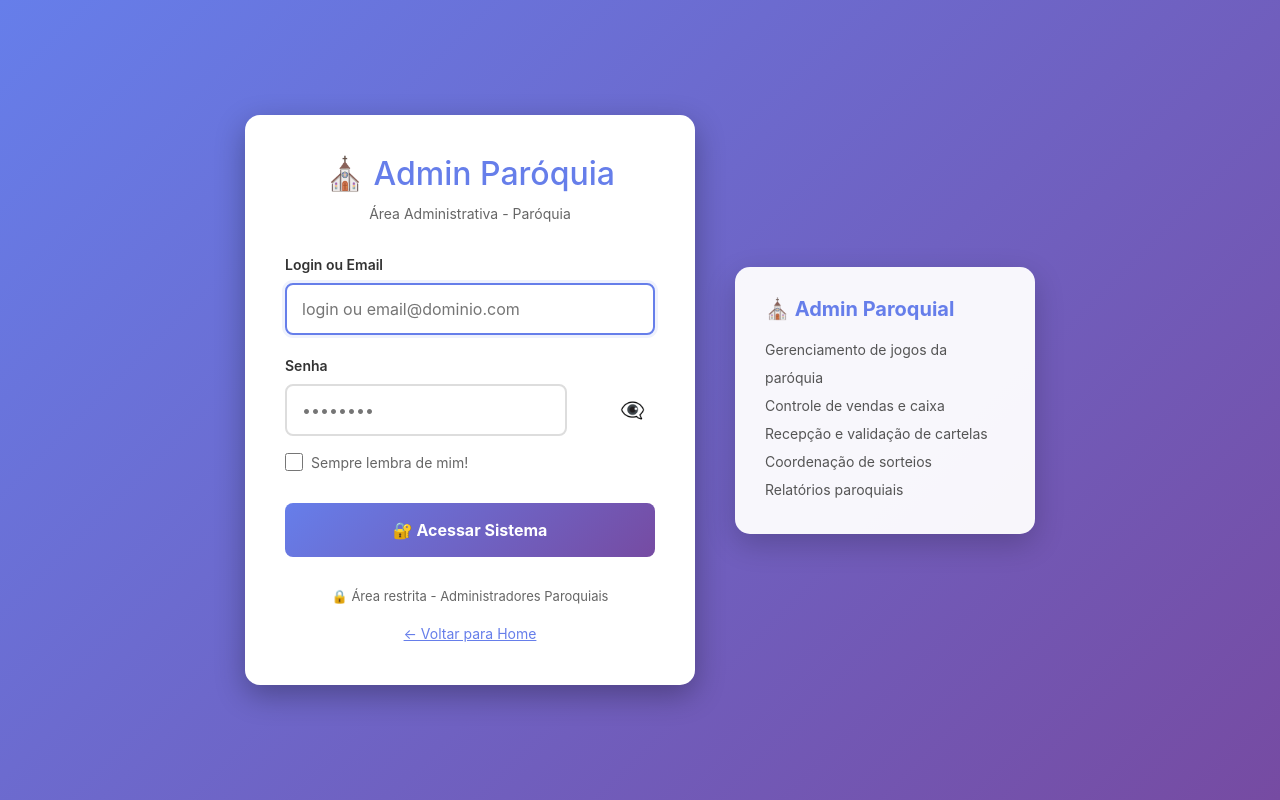
AdminParoquiaLogin › Perfil Admin-Paróquia Burro (UX/Resiliência): senha incorreta retorna erro amigável
The image size is (1280, 800).
Type "admin.paroquia@exemplo.com" into the field with placeholder "login ou email@dominio.com" at [470, 309], box x1=285 y1=283 x2=655 y2=335
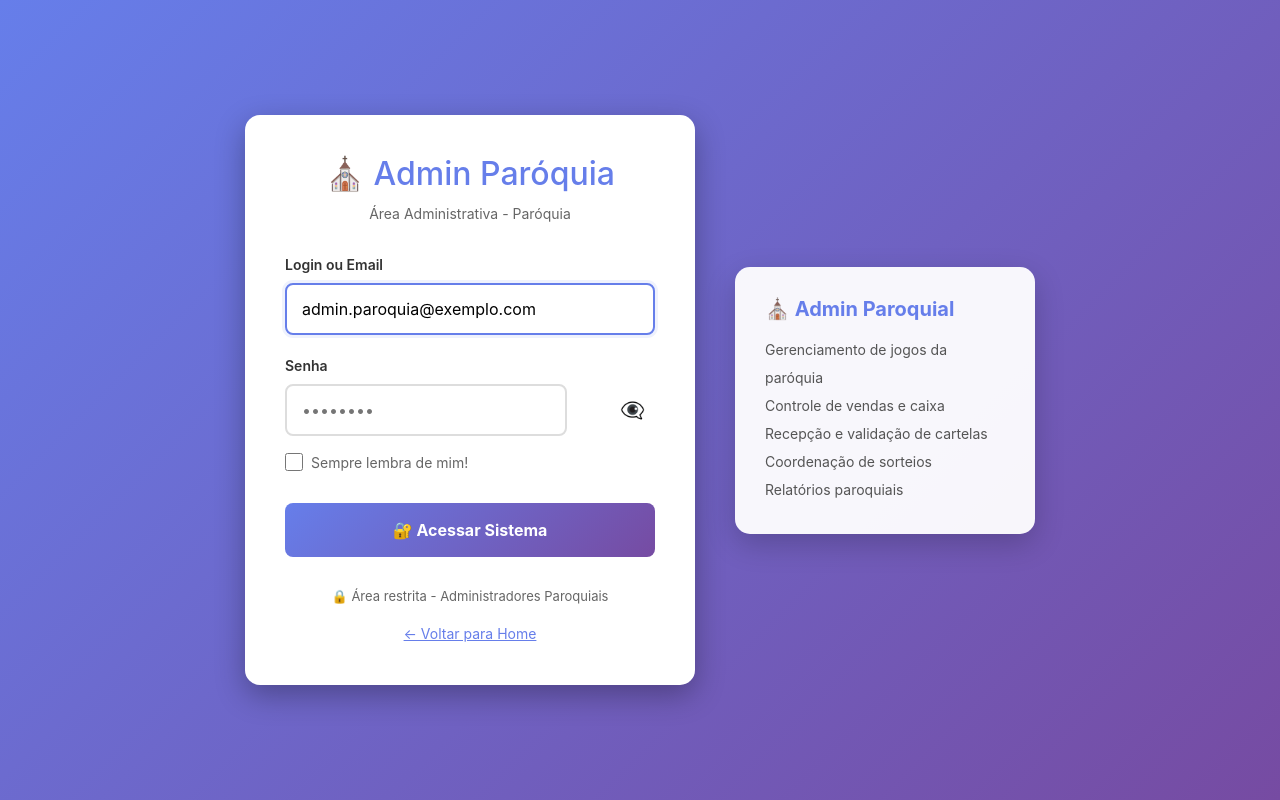
Type "senha_errada" into the password field with placeholder "••••••••" at [426, 410], box x1=285 y1=384 x2=567 y2=436
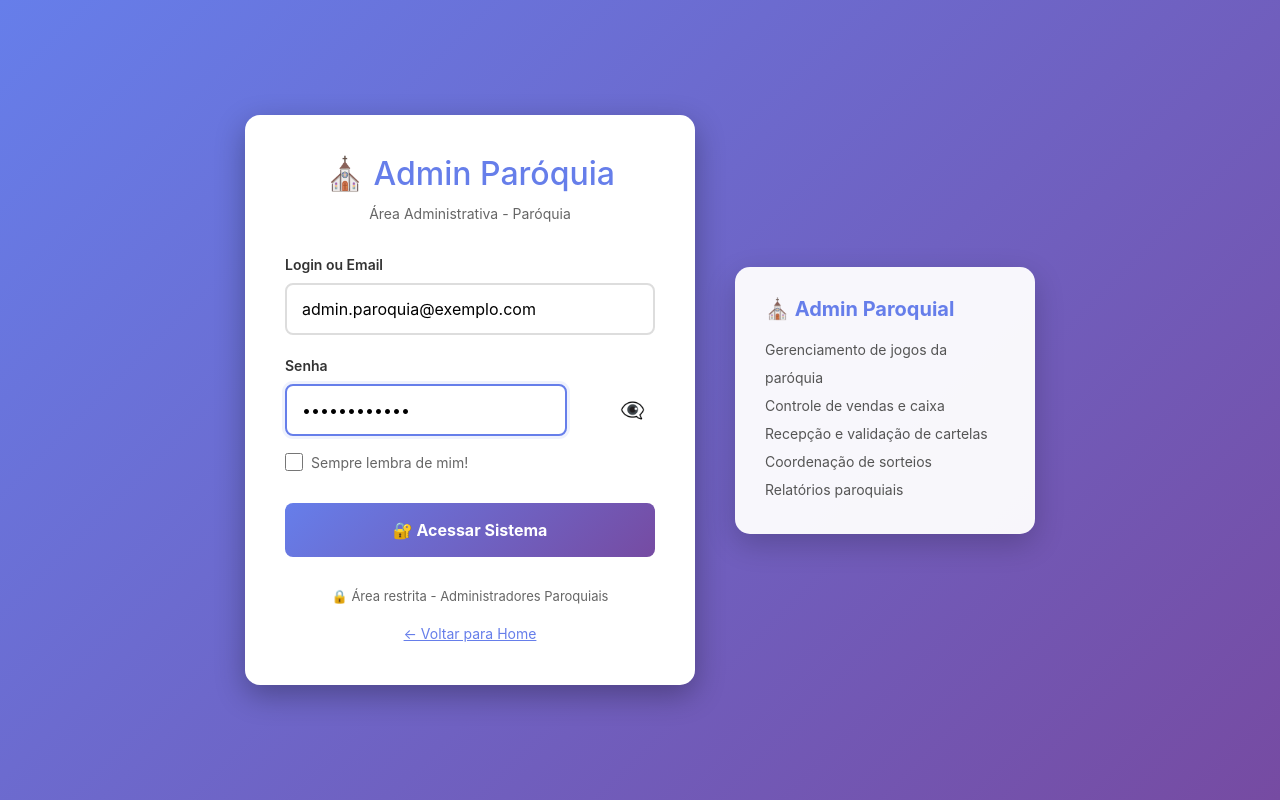
Click the button "🔐 Acessar Sistema" at [470, 530], box x1=285 y1=503 x2=655 y2=557
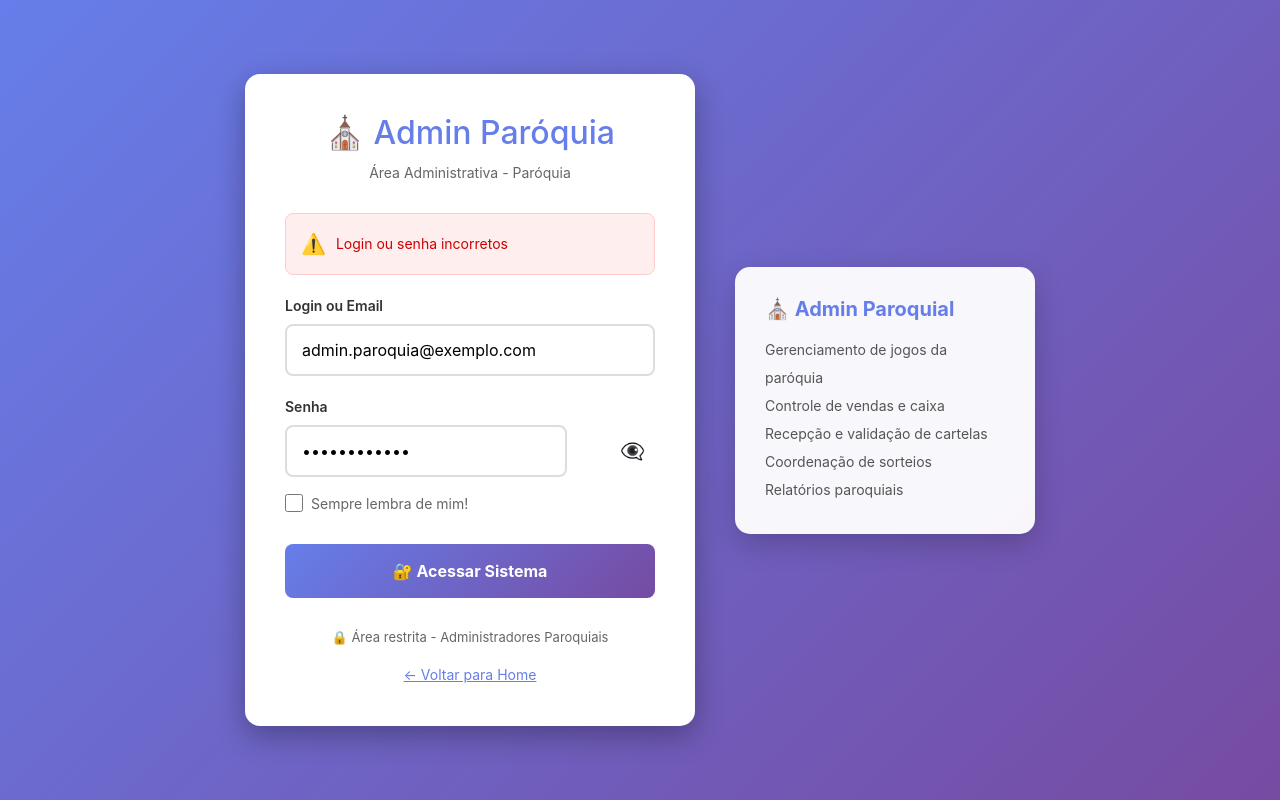
Expected: the text "⚠️ Login ou senha incorretos" is shown, x1=285 y1=213 x2=655 y2=275
